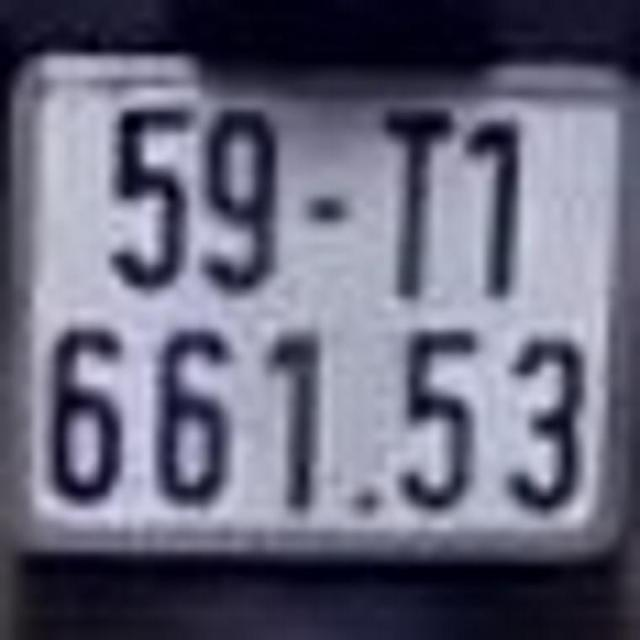1: (263, 305, 336, 521), (462, 104, 532, 311)
3: (512, 320, 595, 531)
5: (397, 304, 482, 522), (108, 87, 197, 291)
6: (45, 311, 126, 508), (156, 310, 236, 508)
9: (206, 91, 286, 303)
T: (370, 82, 456, 303)
